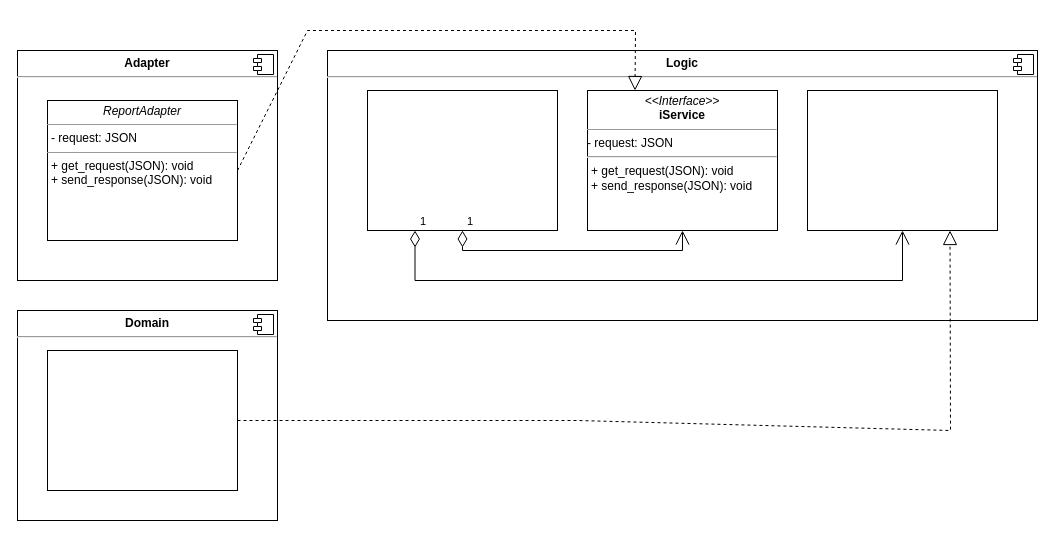
This 1055x538 diagram has some shape labels left out. The centre of each missing label's shape, as x and y in pixels:
<<Interface>> iRepo + get_data(JSON): Map: point (902, 160)
ReportRepo - request: JSON + get_data(JSON): Map: point (142, 420)
ReportService - service: iService - repo: iRepo + ReportService(): void: point (462, 160)
